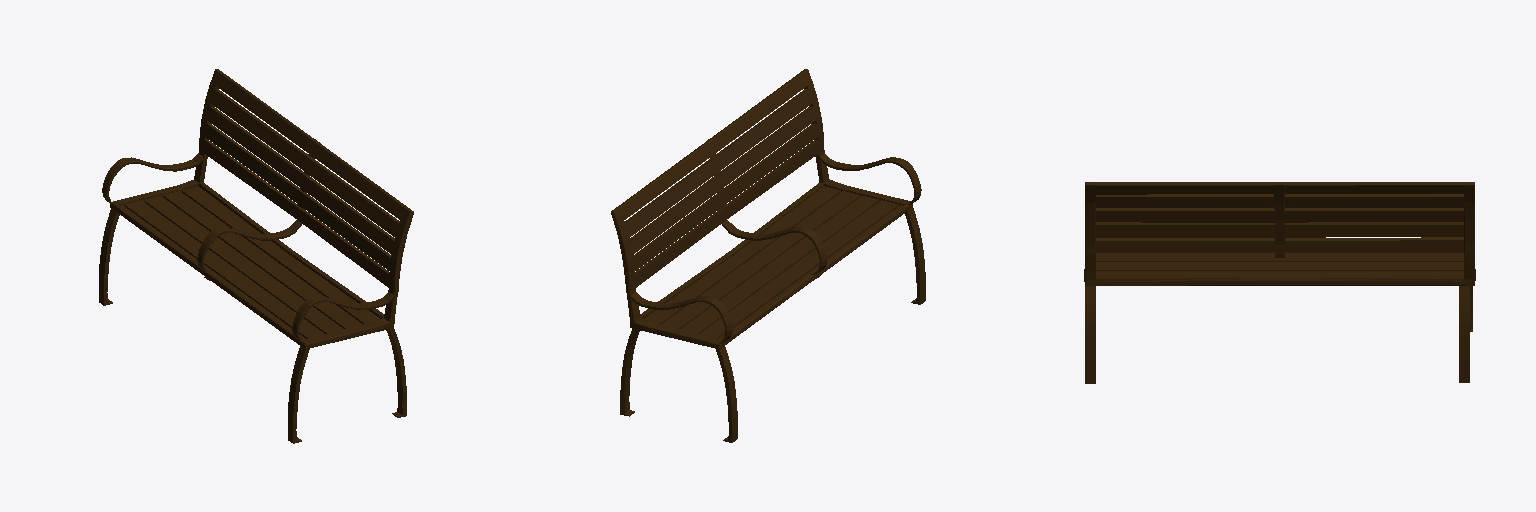
The model's file is silla.obj.
3 views of the same model, side by side, from view 1: azimuth 30°, elevation 25°; view 2: azimuth 150°, elevation 25°; view 3: azimuth 270°, elevation 25° (orthographic).
Parts seen in each view (by area): view 1: Bench_ToTexture; view 2: Bench_ToTexture; view 3: Bench_ToTexture.
Boxes of the visible parts, x1=… form: Bench_ToTexture: x1=99, y1=69, x2=413, y2=443; Bench_ToTexture: x1=611, y1=69, x2=925, y2=442; Bench_ToTexture: x1=1084, y1=182, x2=1475, y2=383.
Bounding box in the file's own units: 1.97 × 3.15 × 5.49.